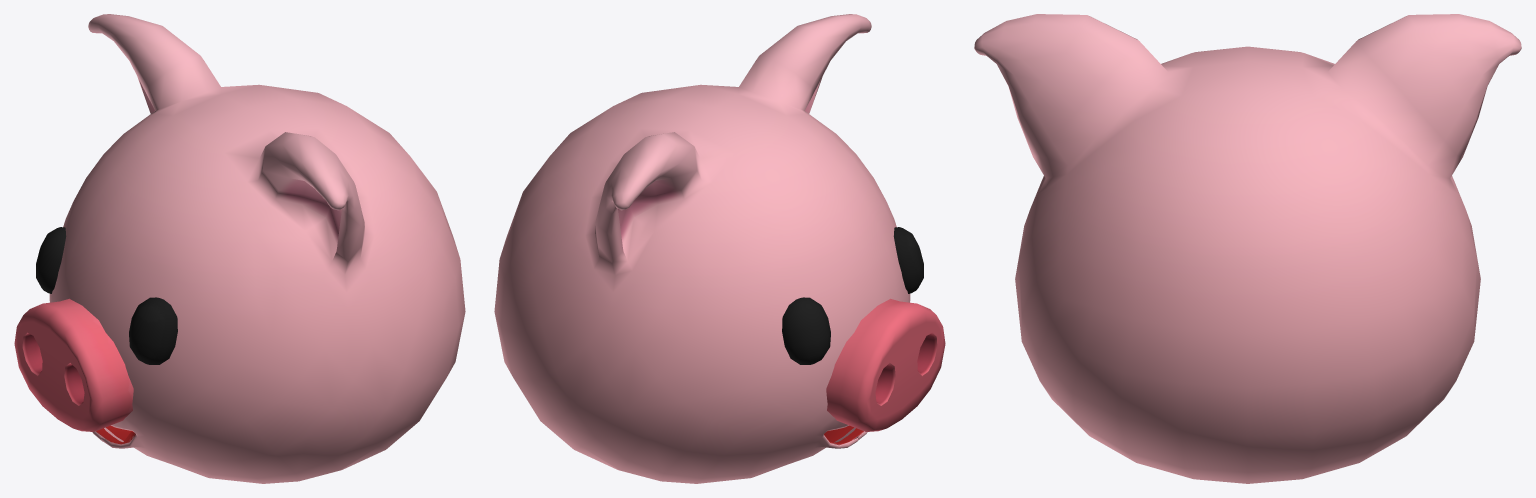
File: pig2.glb
3 views of the same model, side by side, from view 1: azimuth 30°, elevation 25°; view 2: azimuth 150°, elevation 25°; view 3: azimuth 270°, elevation 25° (orthographic). The views are drawn at different scales.
Visible parts, largest first — view 1: Head_Pig, Head_Pig_PigHead02_0.001; view 2: Head_Pig, Head_Pig_PigHead02_0.001; view 3: Head_Pig.
Part boxes in pixels (box(x1,y1,x2,y2)): Head_Pig: box(14, 14, 465, 483); Head_Pig_PigHead02_0.001: box(129, 297, 177, 364); Head_Pig: box(494, 14, 945, 483); Head_Pig_PigHead02_0.001: box(893, 227, 923, 293); Head_Pig: box(974, 14, 1521, 483).
Bounding box in the file's own units: 44.91 × 42.41 × 49.79.
3 materials, 3 textured.
